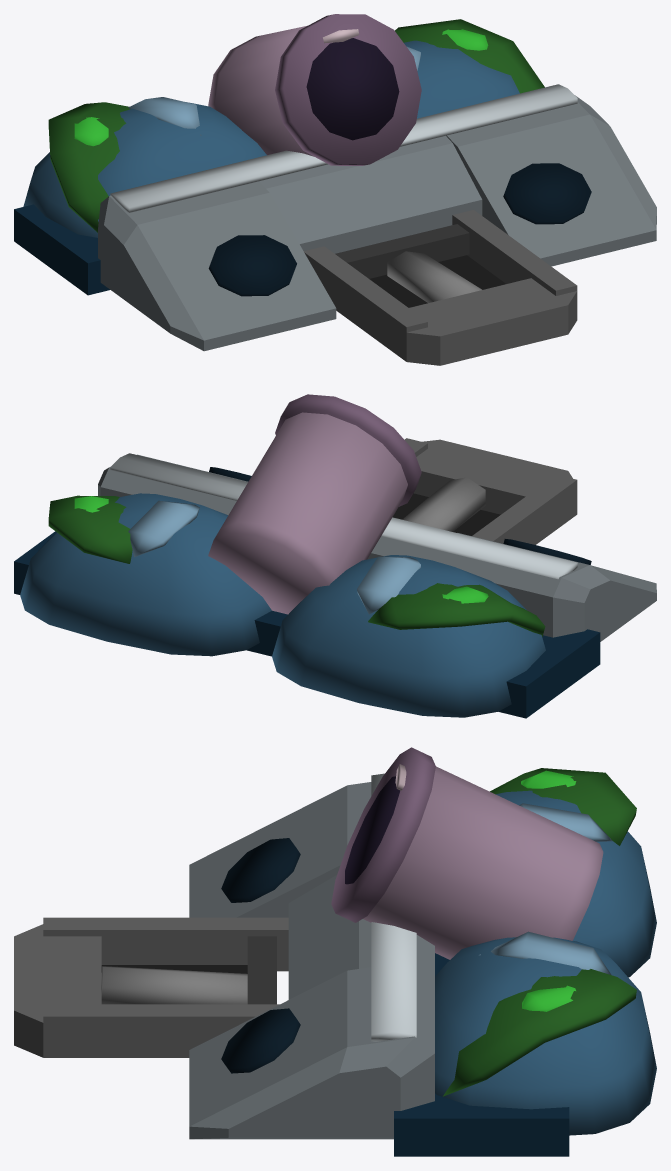
File: newshc-155.glb
3 renders of one model, top to bottom at view 1: azimuth 30°, elevation 25°; view 2: azimuth 150°, elevation 25°; view 3: azimuth 270°, elevation 25°, orthographic. The views are drawn at different scales.
Visible parts, largest first — view 1: newshc-155; view 2: newshc-155; view 3: newshc-155.
Part boxes in pixels (bbox=[...]): newshc-155: bbox=[14, 14, 656, 365]; newshc-155: bbox=[14, 394, 656, 718]; newshc-155: bbox=[14, 747, 656, 1156].
Bounding box in the file's own units: 2 × 0.7916 × 1.83.
